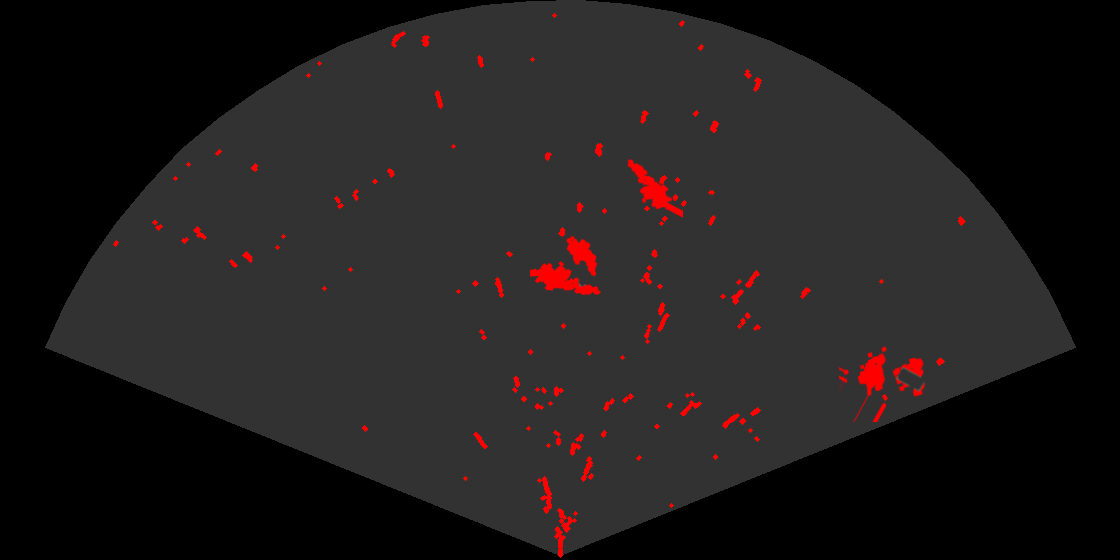AUV: (565, 234, 599, 278)
cage: (839, 345, 927, 422)
frogman: (625, 157, 683, 220), (530, 260, 601, 297)
